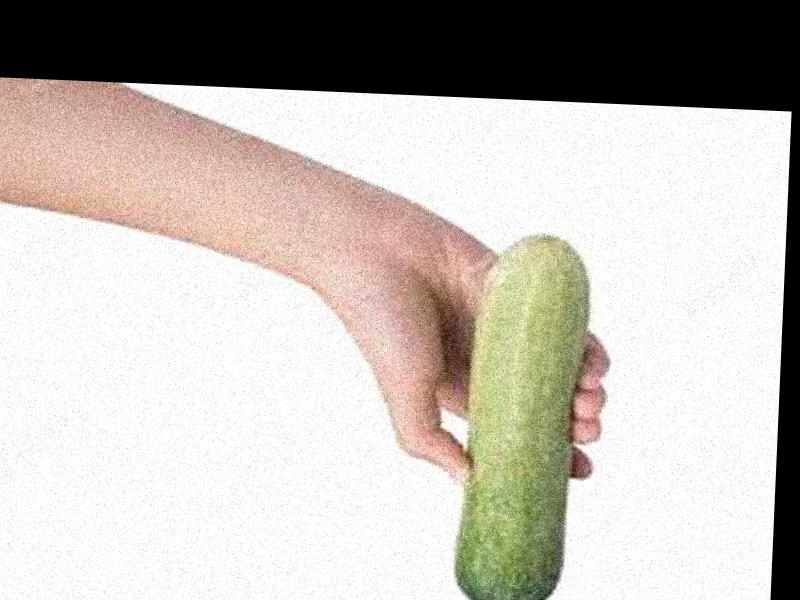Cucumber: (445, 228, 588, 600)
